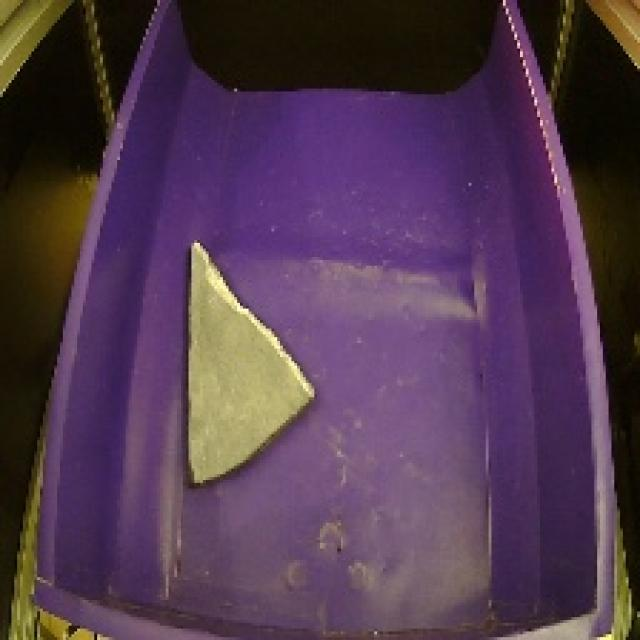china: (172, 228, 325, 494)
